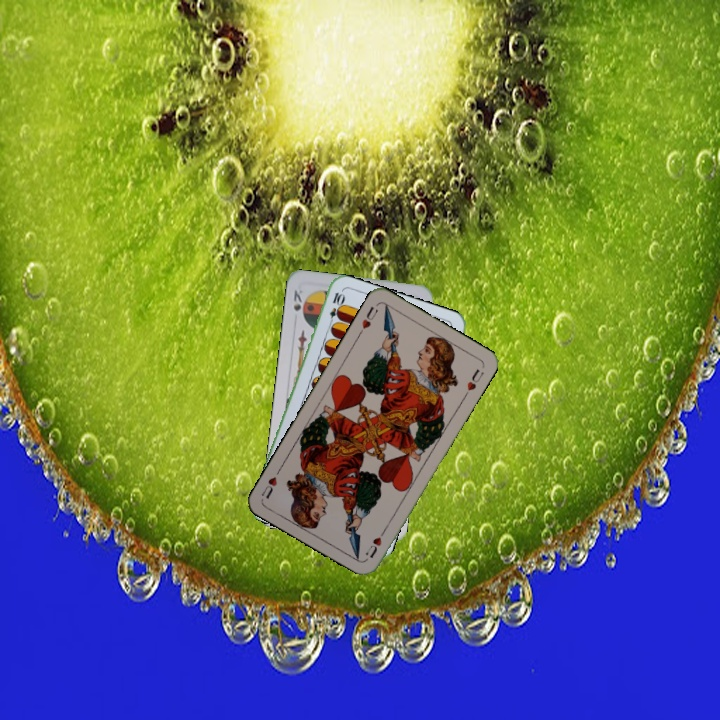E10: (325, 288, 346, 329)
HU: (361, 525, 388, 561), (355, 302, 381, 338)
SK: (289, 286, 305, 314)
